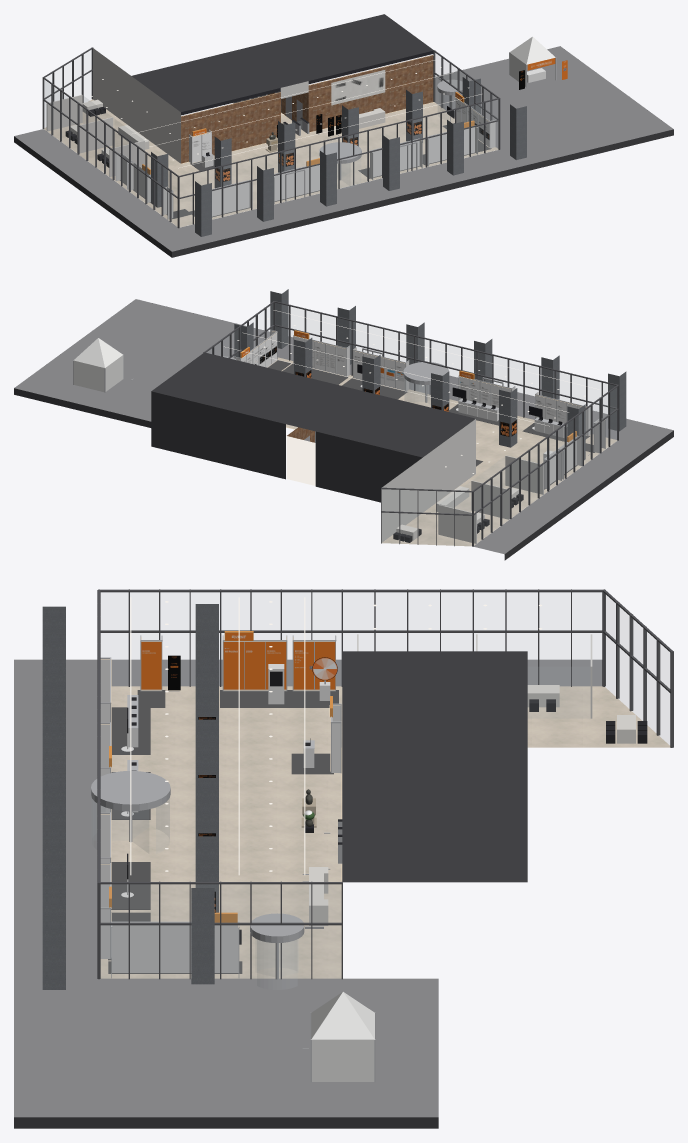
Rendered from lobby.glb.
3 renders of one model, top to bottom at view 1: azimuth 30°, elevation 25°; view 2: azimuth 150°, elevation 25°; view 3: azimuth 270°, elevation 25°, orthographic. The views are drawn at different scales.
Parts seen in each view (by area): view 1: paving, side_n_top, side_s_glass, side_n_wall, floor, side_s_cols, wing_wall, base, wing_f_glass, pillars_body, wing_body, side_s_mull (+17 smaller); view 2: side_n_top, paving, side_s_glass, wing_f_glass, floor, wing_wall, side_s_cols, wing_body, pillars_body, side_s_mull, side_w_glass, wing_f_mull (+14 smaller); view 3: paving, floor, side_n_top, wing_f_glass, side_e_glass, side_w_glass, side_s_cols, pillars_body, zone_vision_vision_body, wing_f_mull, checkin_body, base (+18 smaller).
Part boxes in pixels (box(x1,y1,x2,y2)): paving: box(14, 46, 673, 251); side_n_top: box(132, 14, 433, 111); side_s_glass: box(180, 100, 497, 226); side_n_wall: box(181, 51, 433, 163); floor: box(44, 99, 498, 227); side_s_cols: box(195, 104, 526, 236); wing_wall: box(93, 48, 180, 163); base: box(14, 129, 673, 257); wing_f_glass: box(44, 50, 142, 177); pillars_body: box(151, 77, 480, 207); wing_body: box(46, 95, 149, 176); side_s_mull: box(178, 98, 499, 227); side_n_top: box(151, 352, 475, 502); paving: box(14, 299, 673, 554); side_s_glass: box(275, 303, 613, 418); wing_f_glass: box(382, 439, 547, 545); floor: box(277, 357, 617, 546); wing_wall: box(381, 419, 475, 542); side_s_cols: box(270, 289, 626, 431); wing_body: box(393, 455, 543, 543); pillars_body: box(234, 322, 585, 460); side_s_mull: box(273, 301, 618, 440); side_w_glass: box(550, 388, 616, 488); wing_f_mull: box(381, 436, 548, 546); paving: box(14, 659, 602, 1117); floor: box(100, 686, 670, 978); side_n_top: box(342, 651, 527, 882); wing_f_glass: box(343, 593, 669, 744); side_e_glass: box(101, 885, 340, 989); side_w_glass: box(101, 593, 340, 685); side_s_cols: box(42, 606, 65, 989); pillars_body: box(191, 604, 218, 984); zone_vision_vision_body: box(108, 912, 242, 978); wing_f_mull: box(341, 589, 673, 747); checkin_body: box(310, 992, 375, 1082); base: box(14, 1117, 438, 1128).
Size of the model in its own units: 51 by 5.6 by 31.09.
64 materials, 53 textured.
